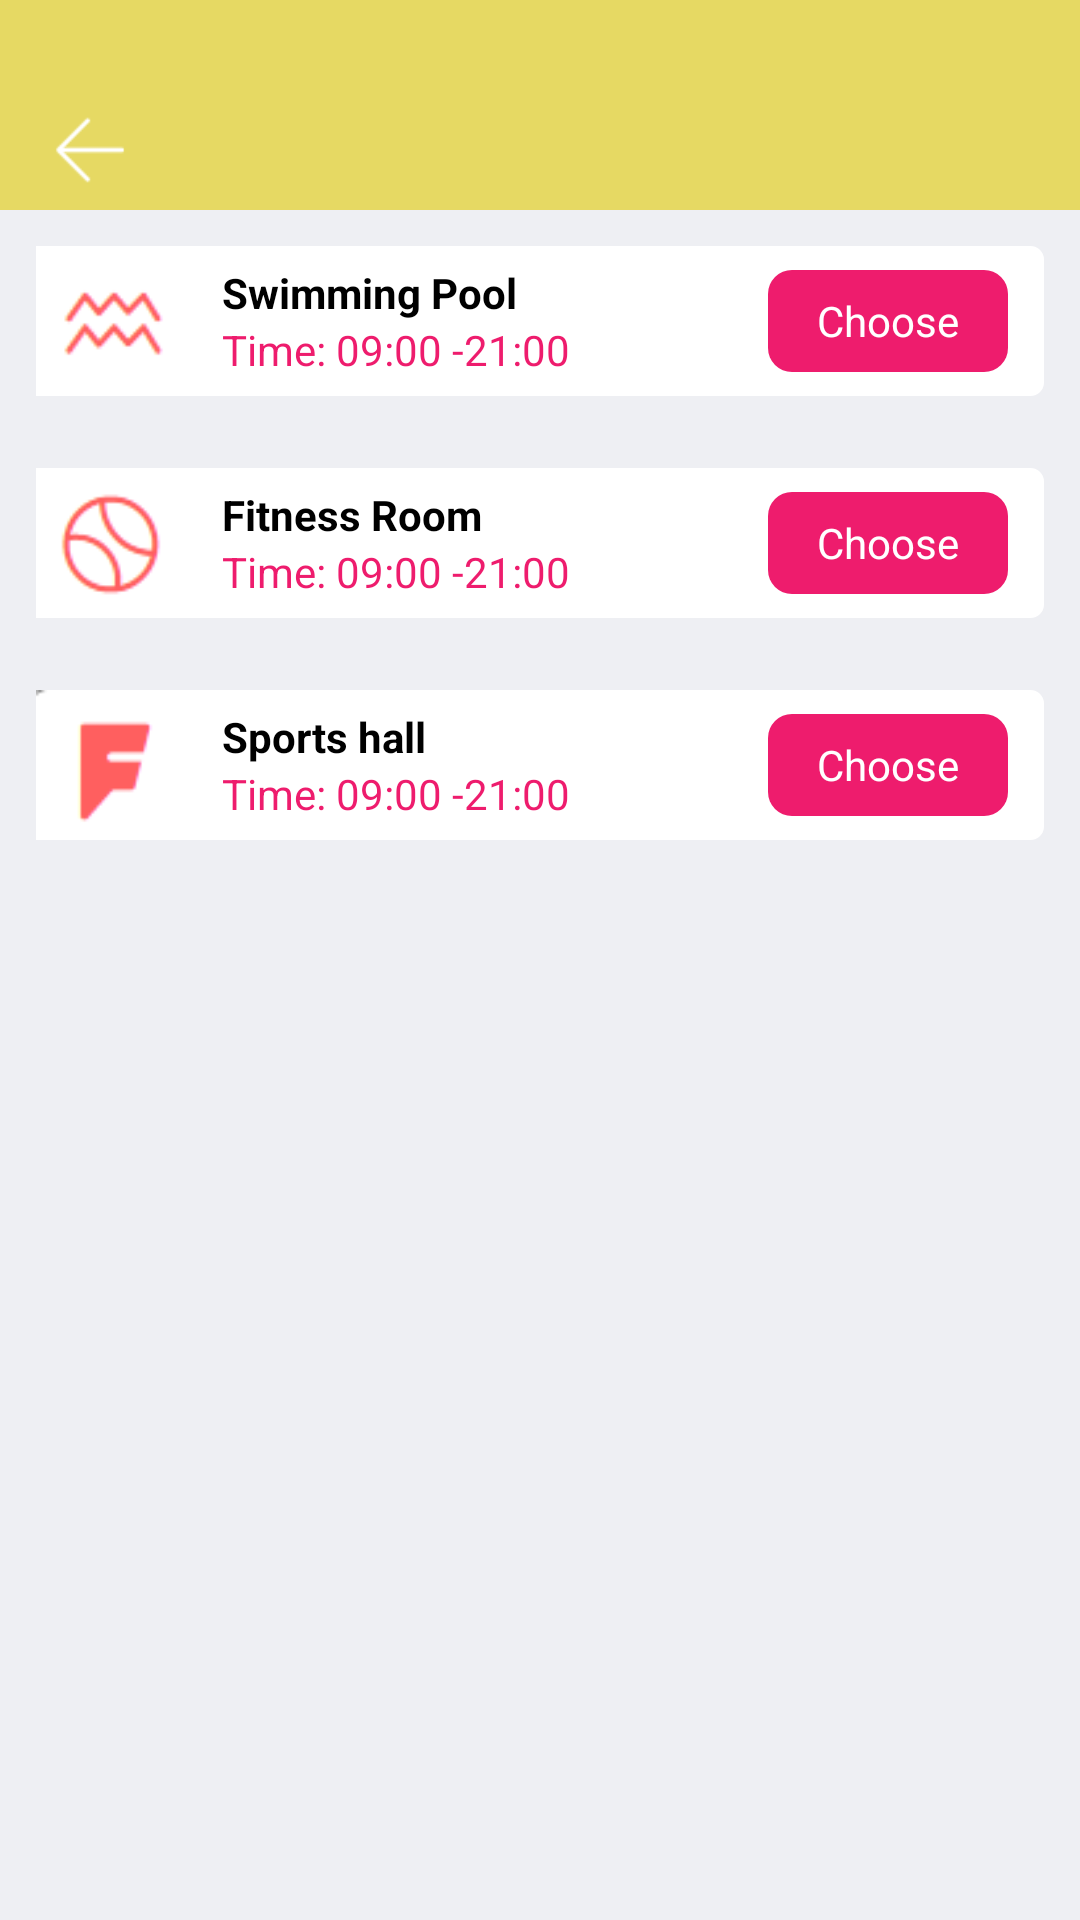

Locate icon controls on the screen. Image size 1080px×1920px, boxes as detection(x1, y1, x2, y2).
back: detection(56, 118, 124, 182)
